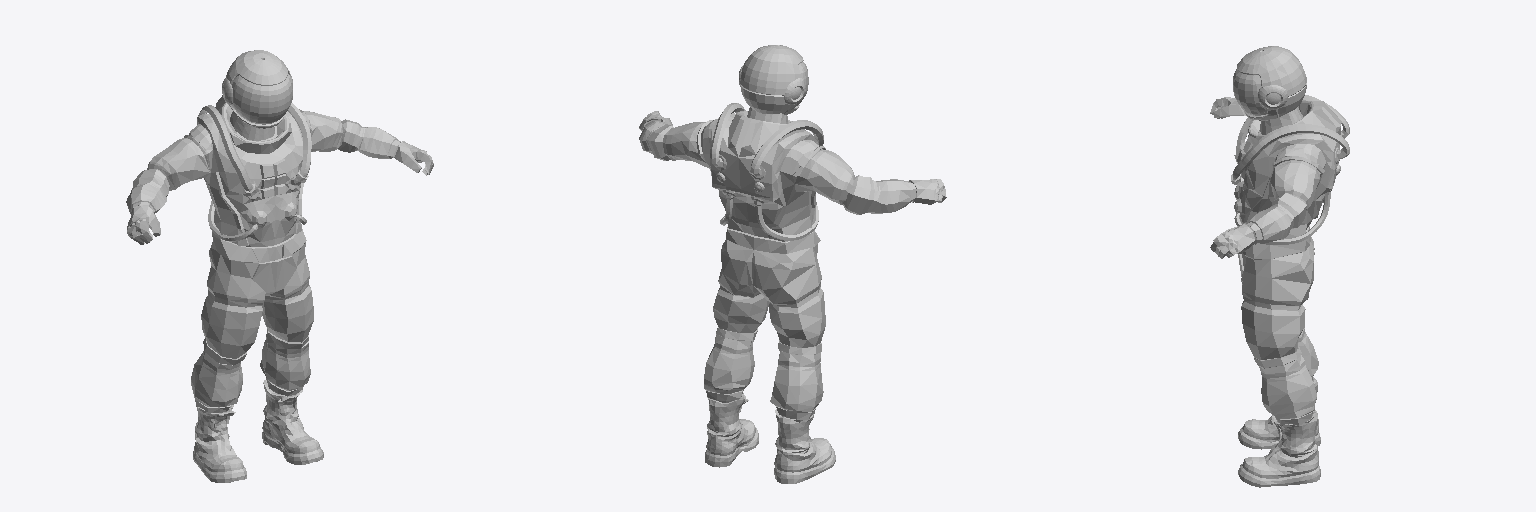
File: Astronaut.obj
3 views of the same model, side by side, from view 1: azimuth 30°, elevation 25°; view 2: azimuth 150°, elevation 25°; view 3: azimuth 270°, elevation 25° (orthographic).
Visible parts, largest first — view 1: astronaut, astronautvisir; view 2: astronaut; view 3: astronaut, astronautvisir.
Boxes of the visible parts, x1=… form: astronaut: x1=126, y1=50, x2=433, y2=482; astronautvisir: x1=232, y1=74, x2=292, y2=124; astronaut: x1=639, y1=45, x2=946, y2=483; astronaut: x1=1210, y1=46, x2=1349, y2=487; astronautvisir: x1=1233, y1=69, x2=1267, y2=115.
Size of the model in its own units: 2.9 by 3.78 by 1.16.